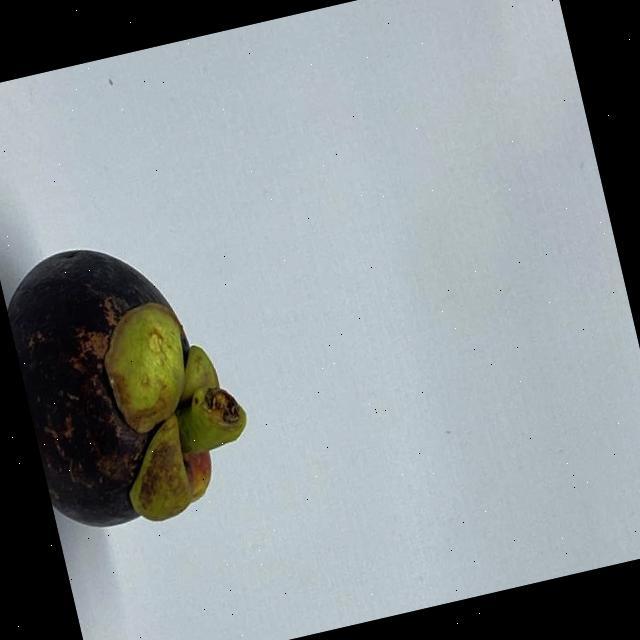mangosteen: (0, 197, 276, 560)
